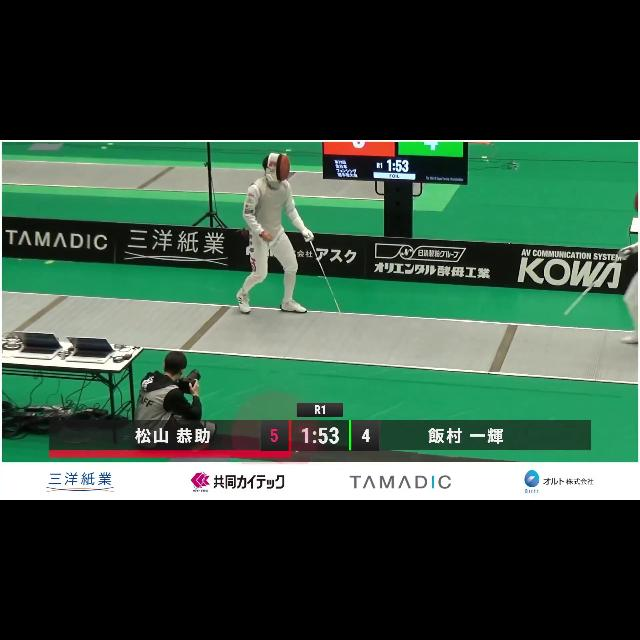blade: (564, 246, 636, 322), (303, 230, 352, 322)
